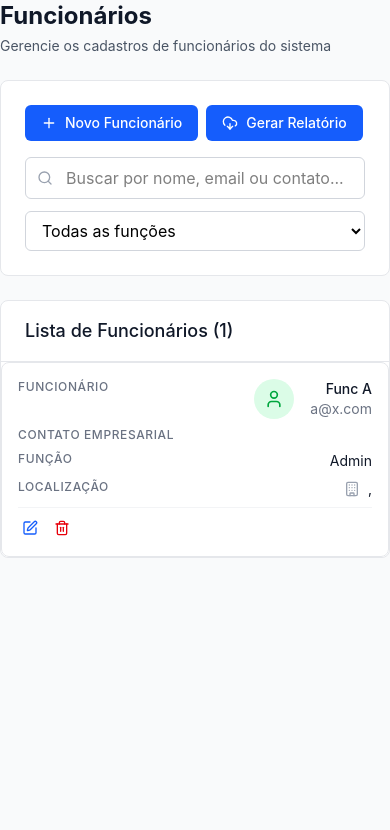
Test: Employees page › opens edit modal
Click the button titled "Editar": [30, 528] box [18,516,42,540]
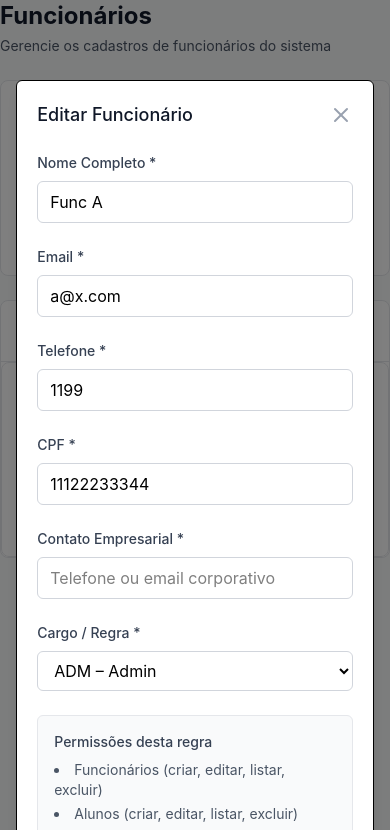
Check: the heading "Editar Funcionário" is shown, box [37,101,193,129]
